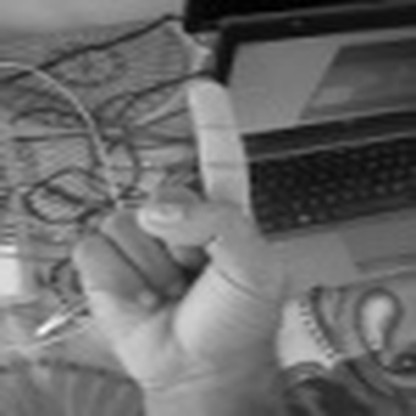d: (80, 65, 277, 414)
